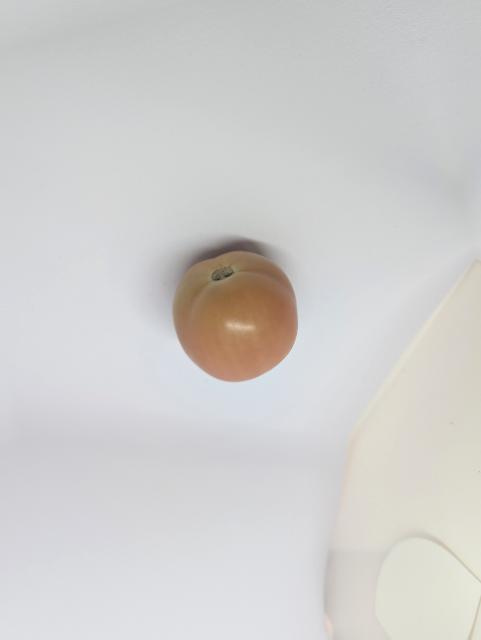turning: (166, 253, 319, 386)
